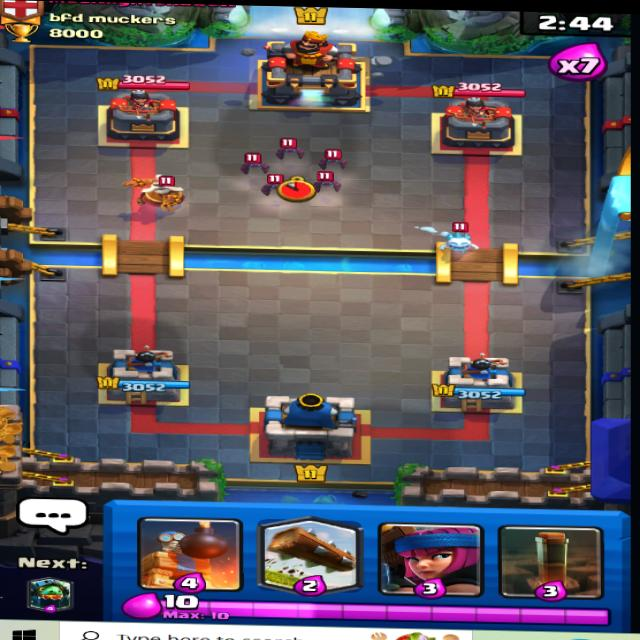bats: (307, 164, 353, 197), (274, 132, 315, 164), (250, 170, 290, 199), (232, 150, 274, 173), (317, 144, 357, 167)
ice-spirit: (428, 223, 480, 257)
monk: (120, 167, 198, 216)
